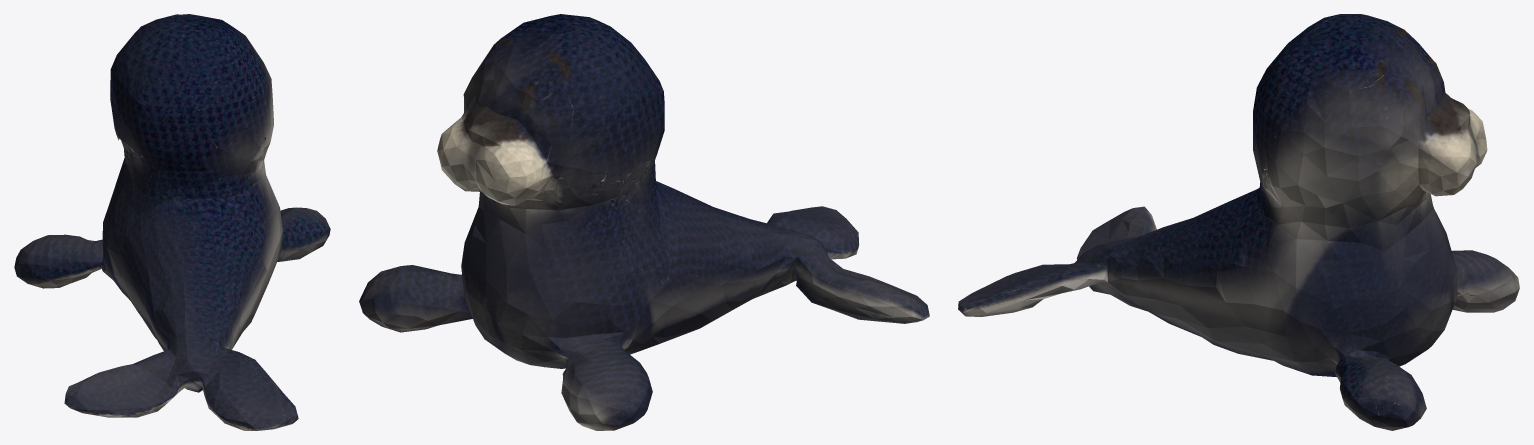
The model's file is 652529DC-20C2-A145-BCD8-600CD771BB43_512.glb.
3 renders of one model, left to right at view 1: azimuth 30°, elevation 25°; view 2: azimuth 150°, elevation 25°; view 3: azimuth 270°, elevation 25°, orthographic. The views are drawn at different scales.
Visible parts, largest first — view 1: Robbe Lars_5k_0.5k; view 2: Robbe Lars_5k_0.5k; view 3: Robbe Lars_5k_0.5k.
Part boxes in pixels (<box>): Robbe Lars_5k_0.5k: <box>14,14,330,430</box>; Robbe Lars_5k_0.5k: <box>359,14,929,430</box>; Robbe Lars_5k_0.5k: <box>958,14,1519,430</box>.
Size of the model in its own units: 0.2194 by 0.1619 by 0.2439.
Materials: 1 (1 with a texture image).
